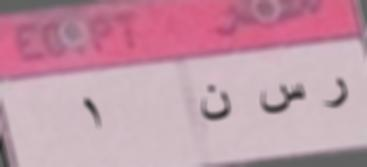1: (79, 91, 108, 136)
noon: (197, 81, 239, 126)
raa: (319, 72, 351, 114)
seen: (254, 80, 308, 121)
